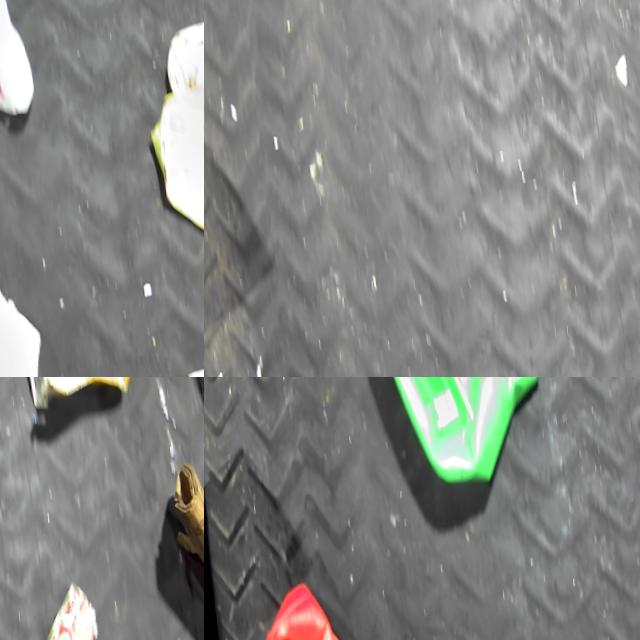can: (33, 572, 101, 640)
non_white_jug: (354, 377, 552, 493), (243, 571, 358, 640)
